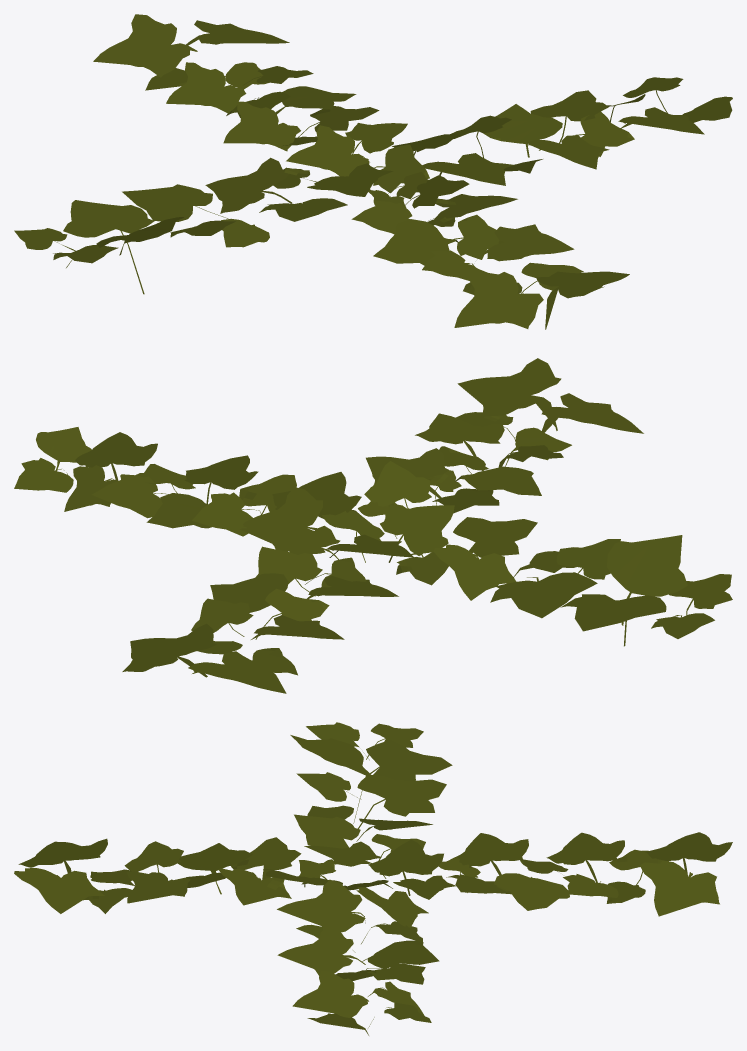
The model's file is lowPolyLeafsCross.fbx.
3 views of the same model, one above another, from view 1: azimuth 30°, elevation 25°; view 2: azimuth 150°, elevation 25°; view 3: azimuth 270°, elevation 25° (orthographic). The views are drawn at different scales.
Visible parts, largest first — view 1: CrossIvyLeafsLowPoly; view 2: CrossIvyLeafsLowPoly; view 3: CrossIvyLeafsLowPoly.
Part boxes in pixels (left/top/right/bottom): CrossIvyLeafsLowPoly: left=14, top=14, right=732, bottom=329; CrossIvyLeafsLowPoly: left=14, top=358, right=732, bottom=693; CrossIvyLeafsLowPoly: left=14, top=722, right=732, bottom=1035.
Bounding box in the file's own units: 211 × 26.01 × 212.
